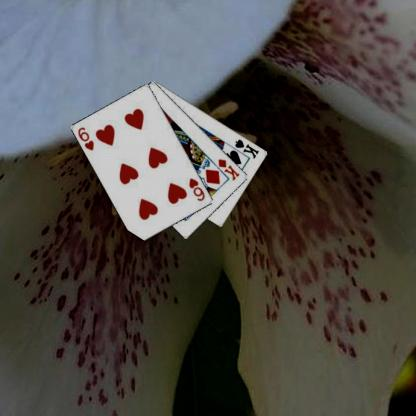6H: (76, 125, 96, 152), (186, 176, 206, 202)
KD: (216, 156, 241, 182)
KS: (233, 136, 260, 160)
